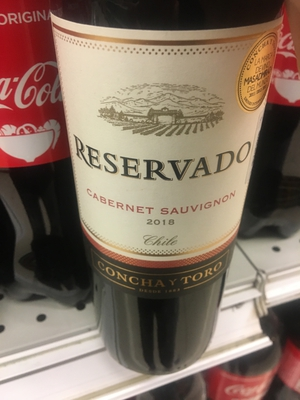reservado cabernet sauvignon: (42, 2, 282, 383)
